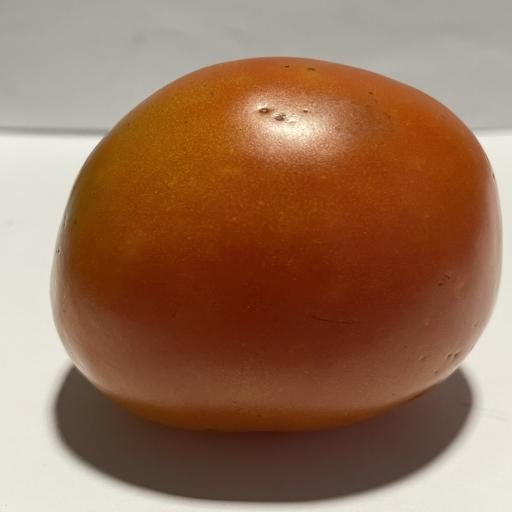ripe: (51, 58, 501, 431)
